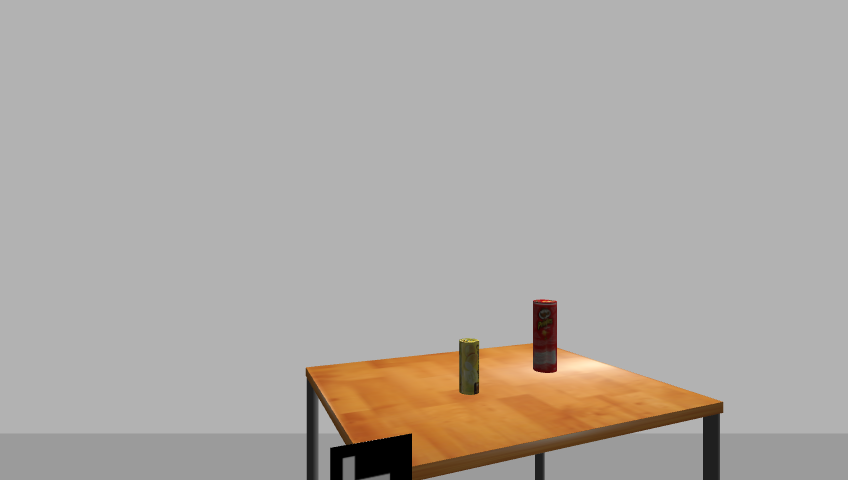aruco marker: (324, 433, 418, 480)
biscuits pack: (457, 338, 481, 396)
dinner table: (296, 342, 732, 480)
pringles can: (531, 299, 560, 375)
